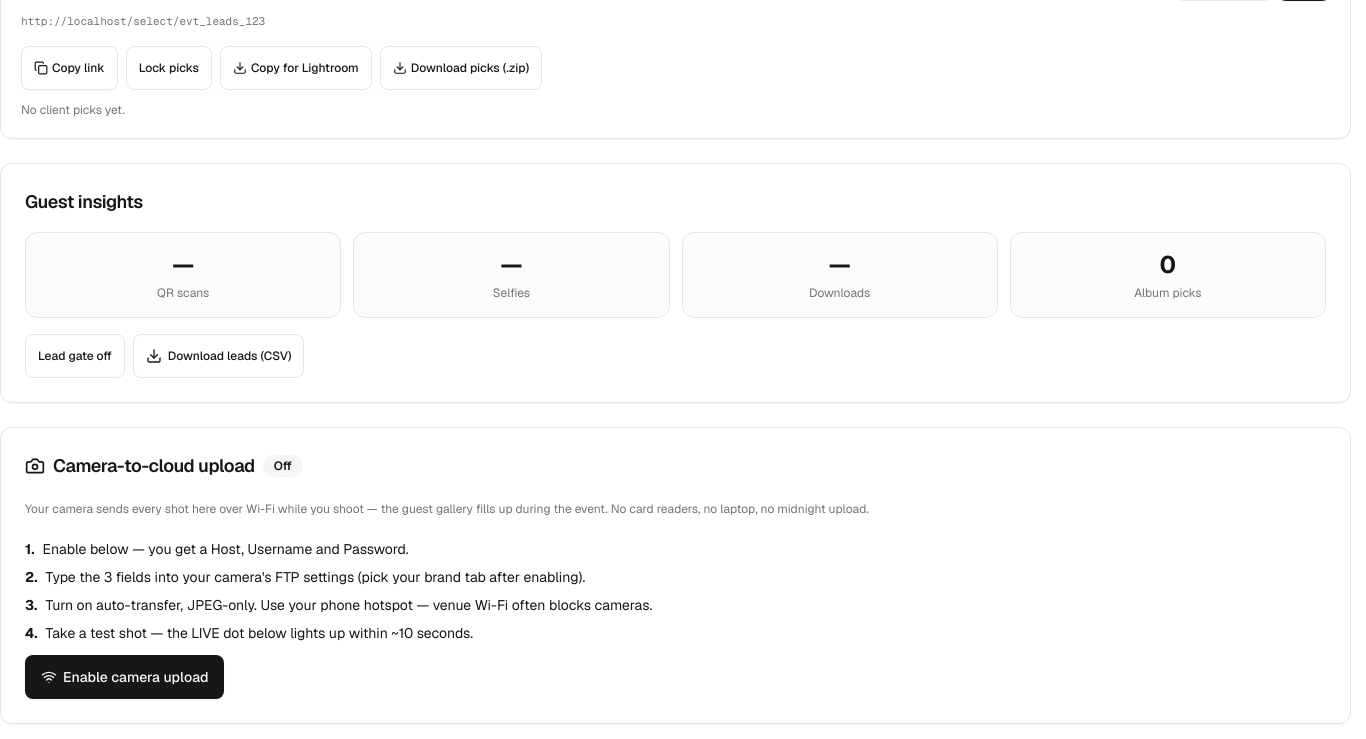
Test: InEvent leads CSV export › exports CSV with kind and message columns, escaping multiline and formulas
The width and height of the screenshot is (1366, 739).
(page scrolled)
Step 1. Click the button "Download leads (CSV)" → (219, 356), box [133,334,304,378]
(page scrolled)
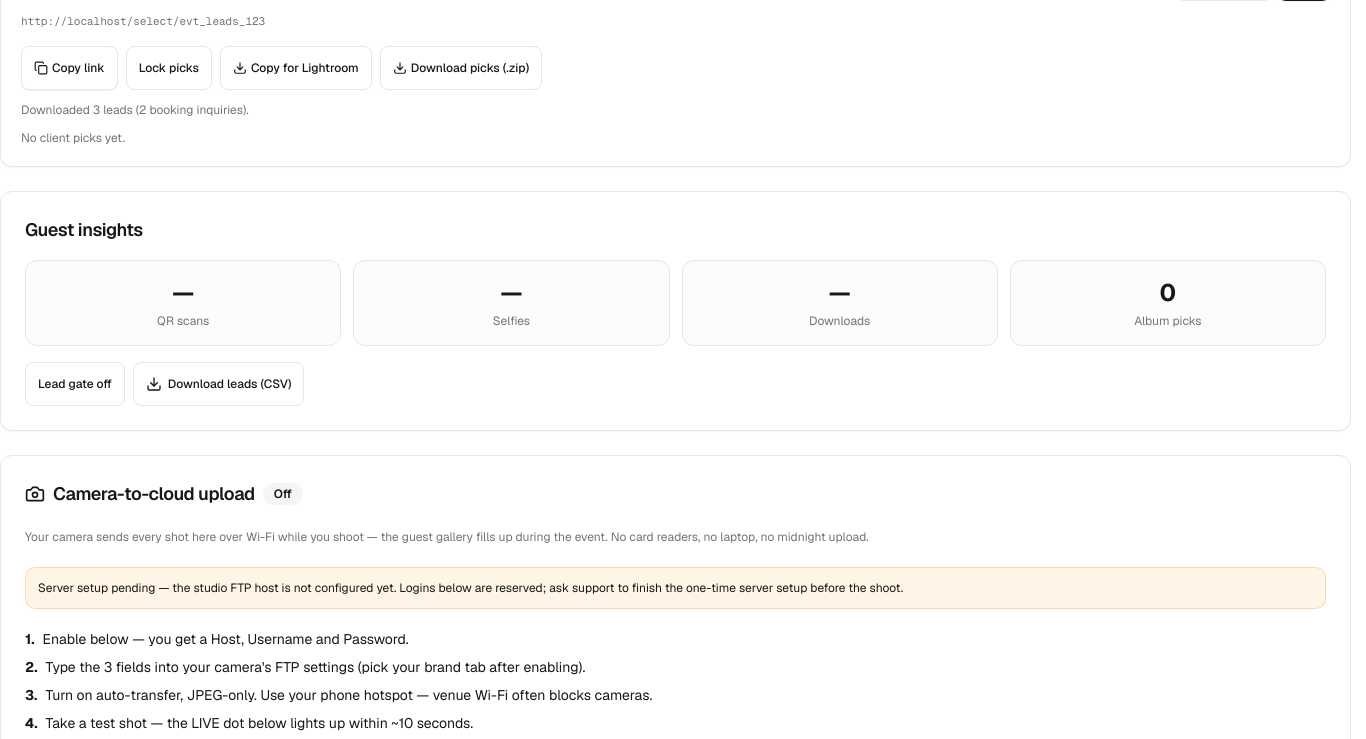
Expected: the text "Downloaded 3 leads (2 booking inquiries)." is shown, [21,102,249,118]
